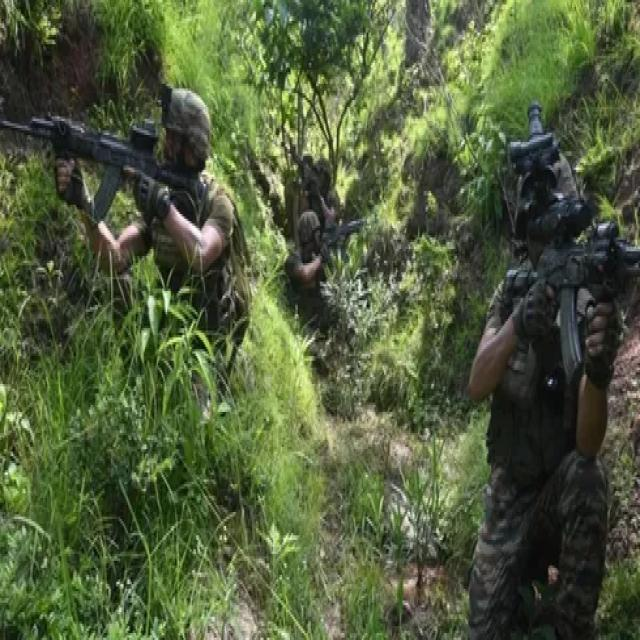Forest: (0, 0, 640, 640)
Militant: (448, 109, 640, 640), (37, 59, 264, 486), (262, 130, 381, 408)
